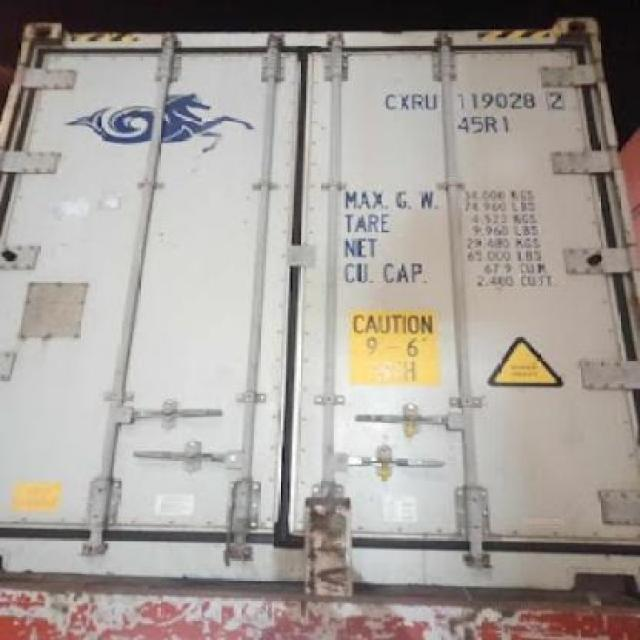ISO: (455, 112, 513, 136)
container_number: (389, 88, 562, 111)
